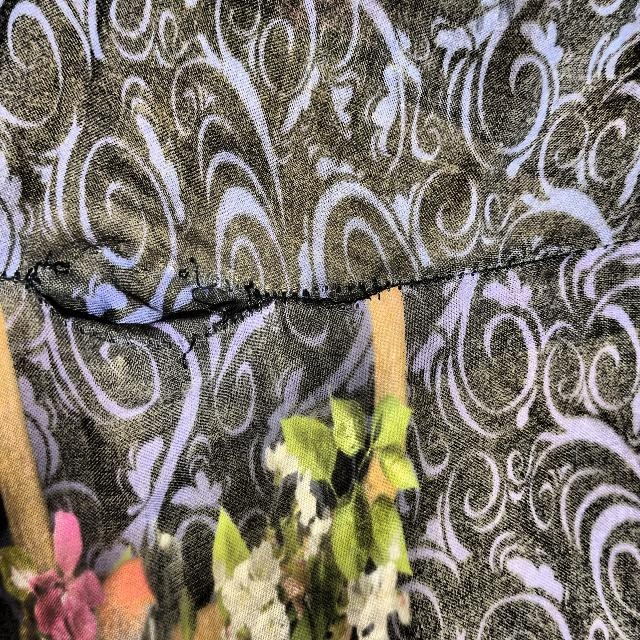Stitch: (1, 227, 96, 339)
seam: (0, 192, 437, 420), (136, 217, 437, 382)
